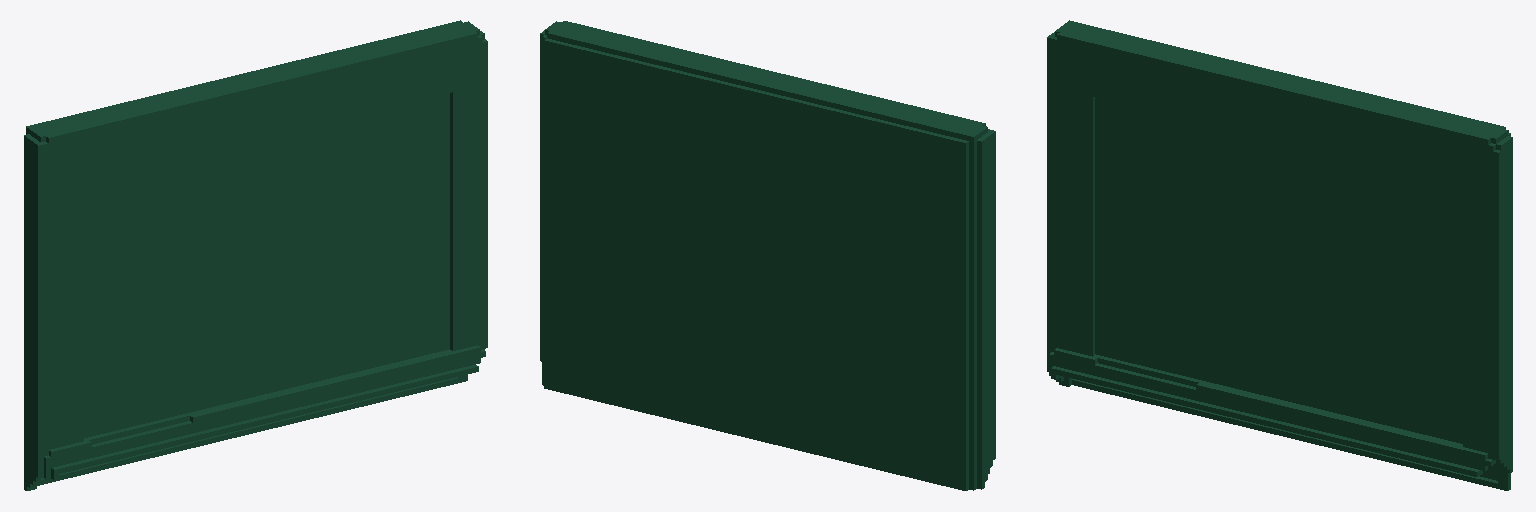
The robot description file, URDF, robot "physxnet_10133_strict":
<?xml version='1.0' encoding='utf-8'?>
<robot name="physxnet_10133_strict">
  <link name="l_world">
    <inertial>
      <origin xyz="0 0 0" rpy="0 0 0" />
      <mass value="0.0100000000" />
      <inertia ixx="0.0000001667" ixy="0.0" ixz="0.0" iyy="0.0000001667" iyz="0.0" izz="0.0000001667" />
    </inertial>
  </link><link name="l_0">
    <inertial>
      <origin xyz="0.0038505581 0.1503386294 0.0000526443" rpy="0 0 0" />
      <mass value="0.0007247069" />
      <inertia ixx="0.0000023959" ixy="0.0" ixz="0.0" iyy="0.0000077904" iyz="0.0" izz="0.0000053944" />
    </inertial><visual>
      <origin xyz="0 0 0" rpy="0 0 0" />
      <geometry>
        <mesh filename="../rigid_visuals/part_000_visual.obj" scale="1 1 1" />
      </geometry><material name="mat_l_0">
        <color rgba="0.32548 0.48041 0.93131 1.00000" />
      </material>
    </visual><collision>
      <origin xyz="0 0 0" rpy="0 0 0" />
      <geometry>
        <mesh filename="part_000_collision.obj" scale="1 1 1" />
      </geometry>
    </collision>
  </link><joint name="joint_fixed_l_world_l_0" type="fixed">
    <parent link="l_world" />
    <child link="l_0" />
    <origin xyz="0 0 0" rpy="0 0 0" />
  </joint><link name="l_1">
    <inertial>
      <origin xyz="0.0000000000 0.1595907170 0.0008817928" rpy="0 0 0" />
      <mass value="0.0516168428" />
      <inertia ixx="0.0003142721" ixy="0.0" ixz="0.0" iyy="0.0008369419" iyz="0.0" izz="0.0005306796" />
    </inertial><visual>
      <origin xyz="0 0 0" rpy="0 0 0" />
      <geometry>
        <mesh filename="../rigid_visuals/part_001_visual.obj" scale="1 1 1" />
      </geometry><material name="mat_l_1">
        <color rgba="0.15447 0.35718 0.26453 1.00000" />
      </material>
    </visual><collision>
      <origin xyz="0 0 0" rpy="0 0 0" />
      <geometry>
        <mesh filename="part_001_collision.obj" scale="1 1 1" />
      </geometry>
    </collision>
  </link><joint name="joint_fixed_l_0_l_1" type="fixed">
    <parent link="l_0" />
    <child link="l_1" />
    <origin xyz="0 0 0" rpy="0 0 0" />
  </joint><link name="l_2">
    <inertial>
      <origin xyz="-0.0000263222 -0.0011755671 -0.1173865572" rpy="0 0 0" />
      <mass value="0.0778613383" />
      <inertia ixx="0.0007923982" ixy="0.0" ixz="0.0" iyy="0.0008024291" iyz="0.0" izz="0.0015784143" />
    </inertial><visual>
      <origin xyz="0 0 0" rpy="0 0 0" />
      <geometry>
        <mesh filename="../rigid_visuals/part_002_visual.obj" scale="1 1 1" />
      </geometry><material name="mat_l_2">
        <color rgba="0.29417 0.82410 0.87988 1.00000" />
      </material>
    </visual><collision>
      <origin xyz="0 0 0" rpy="0 0 0" />
      <geometry>
        <mesh filename="part_002_collision.obj" scale="1 1 1" />
      </geometry>
    </collision>
  </link><joint name="joint_fixed_l_1_l_2" type="fixed">
    <parent link="l_1" />
    <child link="l_2" />
    <origin xyz="0 0 0" rpy="0 0 0" />
  </joint><link name="l_3">
    <inertial>
      <origin xyz="-0.0011865347 0.1625116950 0.0002262454" rpy="0 0 0" />
      <mass value="0.0050754562" />
      <inertia ixx="0.0000200534" ixy="0.0" ixz="0.0" iyy="0.0000209417" iyz="0.0" izz="0.0000014159" />
    </inertial><visual>
      <origin xyz="0 0 0" rpy="0 0 0" />
      <geometry>
        <mesh filename="../rigid_visuals/part_003_visual.obj" scale="1 1 1" />
      </geometry><material name="mat_l_3">
        <color rgba="0.55944 0.19916 0.68114 1.00000" />
      </material>
    </visual><collision>
      <origin xyz="0 0 0" rpy="0 0 0" />
      <geometry>
        <mesh filename="part_003_collision.obj" scale="1 1 1" />
      </geometry>
    </collision>
  </link><joint name="joint_fixed_l_2_l_3" type="fixed">
    <parent link="l_2" />
    <child link="l_3" />
    <origin xyz="0 0 0" rpy="0 0 0" />
  </joint>
</robot>

--- Render facts (derived) ---
3 views of the same robot in one strip: view 1: azimuth 30°, elevation 25°; view 2: azimuth 150°, elevation 25°; view 3: azimuth 330°, elevation 25° (orthographic).
Robot: physxnet_10133_strict — 5 links, 4 joints (4 fixed); root link l_world; default pose: every joint at zero.
Visible links, largest first — view 1: l_1; view 2: l_1; view 3: l_1.
Link boxes in pixels (<box>): l_1: <box>24,20,487,490</box>; l_1: <box>540,21,995,490</box>; l_1: <box>1047,20,1512,490</box>.
Bounding box of the posed robot: 0.356 × 0.036 × 0.272 m (x, y, z).
Meshes: 4 distinct files referenced, 2 mesh visuals loaded (2 OBJ); not drawn: 2 (reference not matched to a file when rendering).
